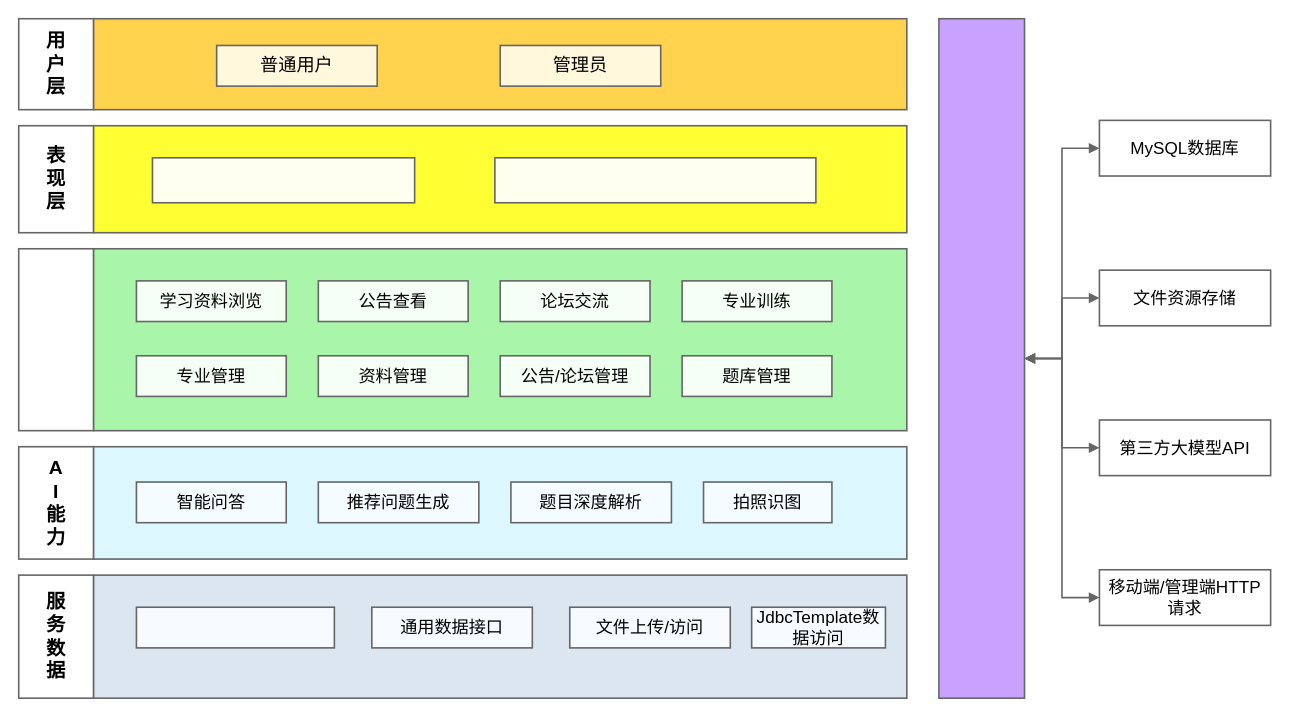
The diagram is 1290 pixels wide and 718 high, and some of its shapes have lost their labels. The centre of each missing label's shape, as x and y in pixels:
"Spring Boot后端服务" goes at point (235, 627).
"uni-app移动端" goes at point (283, 180).
"Vue3 + Element Plus管理端" goes at point (655, 180).
"业 务 功 能" goes at point (55, 339).
"接 口 调 用 与 数 据 交 互" goes at point (981, 357).
